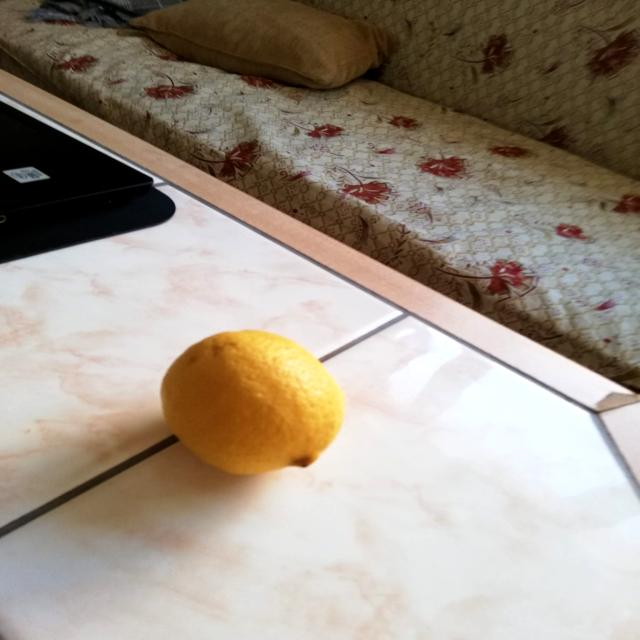lemon: (154, 324, 353, 484)
